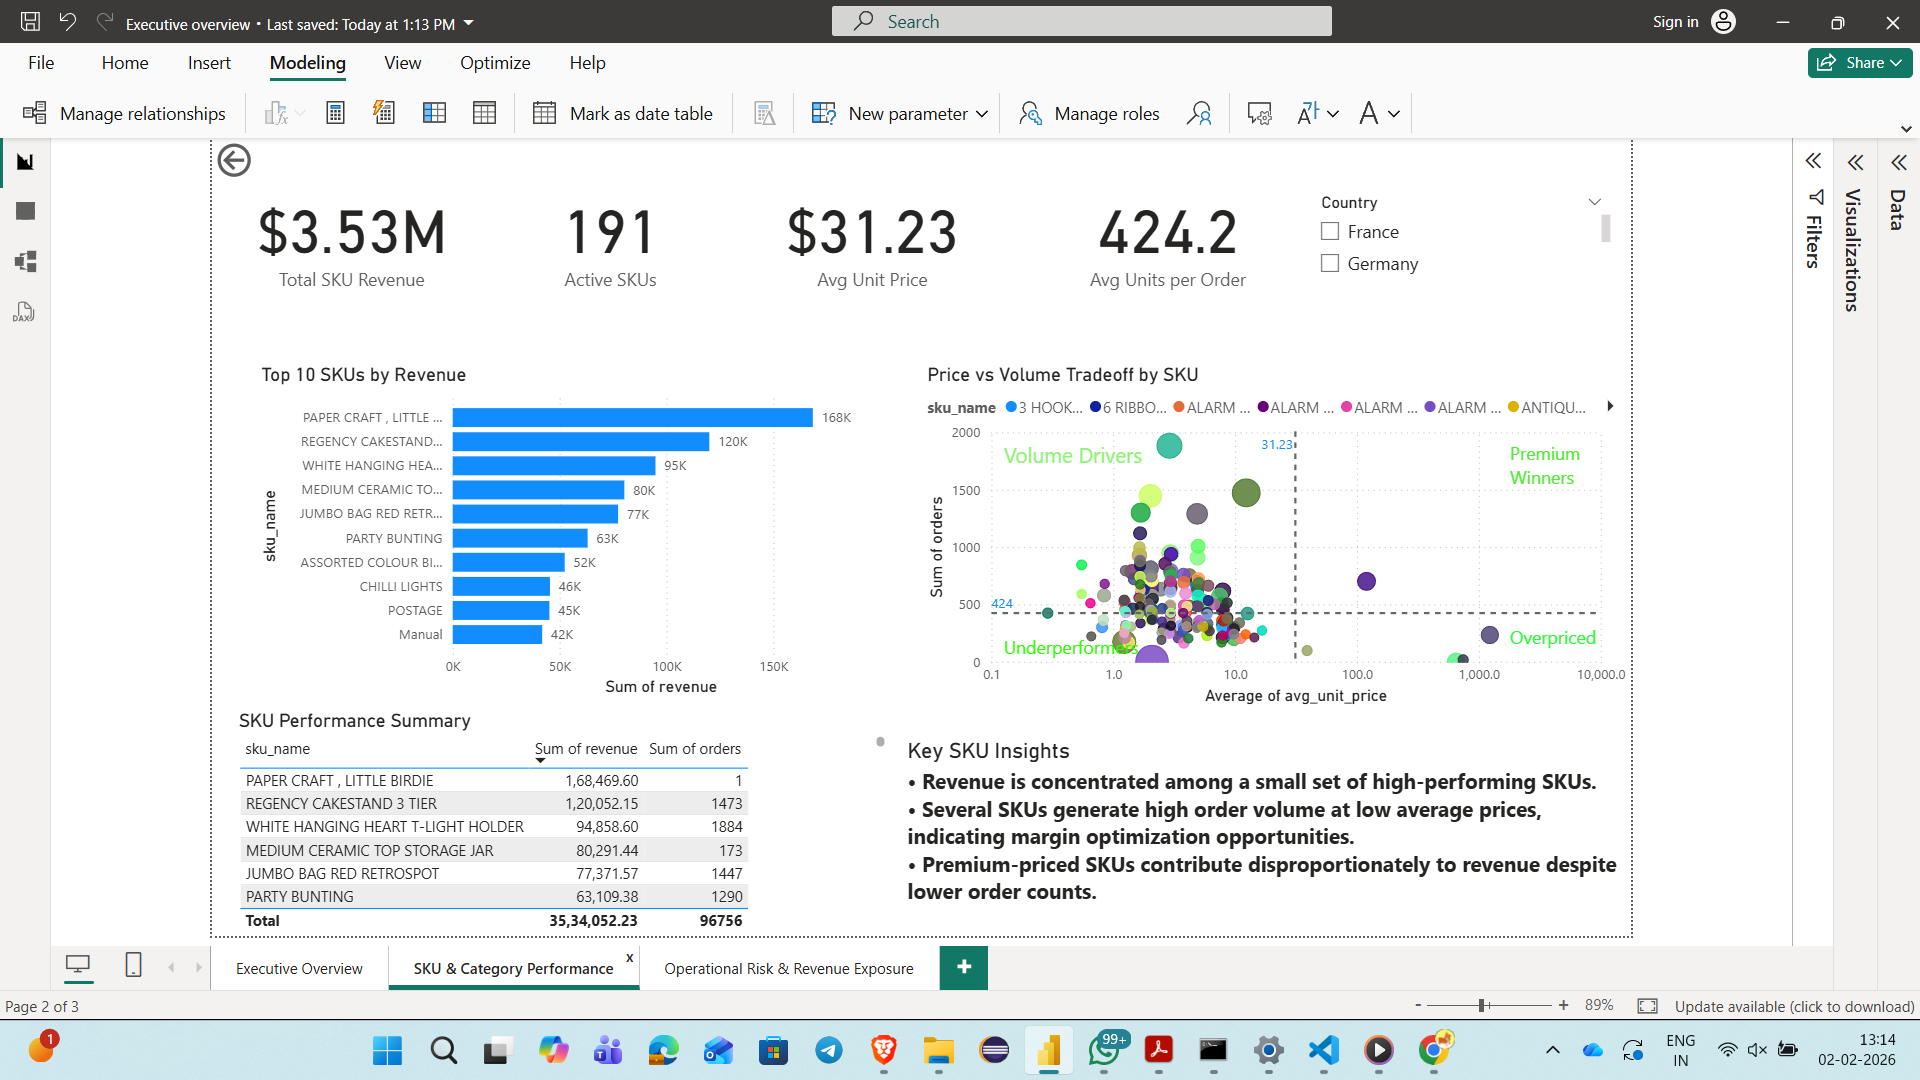

The page's visual inventory and layout, read from the dashboard file:
{"tool":"powerbi","page":{"name":"SKU & Category Performance","canvas":[1280,720],"ordinal":1},"visuals":[{"type":"card","fields":{"Values":["Sum(sku_deep_dive.revenue)"]},"box":[0,0,252.5,178.1],"z":0},{"type":"card","fields":{"Values":["Count(sku_deep_dive.sku)"]},"box":[226.6,0,266,178.1],"z":1000},{"type":"card","fields":{"Values":["Avg(sku_deep_dive.avg_unit_price)"]},"box":[468.9,0,253.6,178.1],"z":2000},{"type":"card","fields":{"Values":["Avg(sku_deep_dive.avg_units_per_order)"]},"box":[722.5,0,279.5,178.1],"z":3000},{"type":"clusteredBarChart","title":"Top 10 SKUs by Revenue","fields":{"Category":["sku_deep_dive.sku_name"],"Y":["Sum(sku_deep_dive.revenue)"]},"box":[39.5,202.3,572.7,305.4],"z":4000},{"type":"actionButton","box":[0,0,100,40],"z":5000},{"type":"scatterChart","title":"Price vs Volume Tradeoff by SKU","fields":{"X":["Avg(sku_deep_dive.avg_unit_price)"],"Y":["Sum(sku_deep_dive.orders)"],"Size":["Sum(sku_deep_dive.revenue)"],"Series":["sku_deep_dive.sku_name"]},"box":[640.1,202.3,640.1,313.1],"z":6000},{"type":"tableEx","title":"SKU Performance Summary","fields":{"Values":["sku_deep_dive.sku_name","Sum(sku_deep_dive.revenue)","Sum(sku_deep_dive.orders)"]},"box":[19.1,515.4,593,204.9],"z":7000},{"type":"slicer","fields":{"Values":["sku_deep_dive.Country"]},"box":[987.6,44.5,278.7,89.1],"z":8000},{"type":"textbox","title":"Key SKU Insights","box":[622.3,540.9,657.9,179.4],"z":9000},{"type":"textbox","box":[1165.7,268.5,89.1,58.5],"z":10000},{"type":"textbox","box":[708.9,268.5,168,48.4],"z":11000},{"type":"textbox","box":[1165.7,434,100.5,34.4],"z":12000},{"type":"textbox","box":[708.9,442.9,141.3,34.4],"z":13000}]}

Visuals, with their boxes on the page's 1280x720 design canvas (x1, y1, x2, y2). These are canvas units, not pixel positions in the 1920x1080 screenshot, which may show the page scaled, cropped or inside an application window:
card - Sum(sku_deep_dive.revenue): 0 0 252 178
card - Count(sku_deep_dive.sku): 227 0 493 178
card - Avg(sku_deep_dive.avg_unit_price): 469 0 722 178
card - Avg(sku_deep_dive.avg_units_per_order): 722 0 1002 178
"Top 10 SKUs by Revenue" clusteredBarChart: 40 202 612 508
actionButton: 0 0 100 40
"Price vs Volume Tradeoff by SKU" scatterChart: 640 202 1280 515
"SKU Performance Summary" tableEx: 19 515 612 720
slicer - sku_deep_dive.Country: 988 44 1266 134
"Key SKU Insights" textbox: 622 541 1280 720
textbox: 1166 268 1255 327
textbox: 709 268 877 317
textbox: 1166 434 1266 468
textbox: 709 443 850 477
